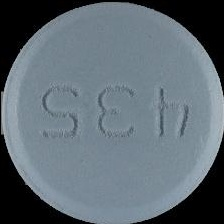60429-947: (0, 0, 224, 224)
